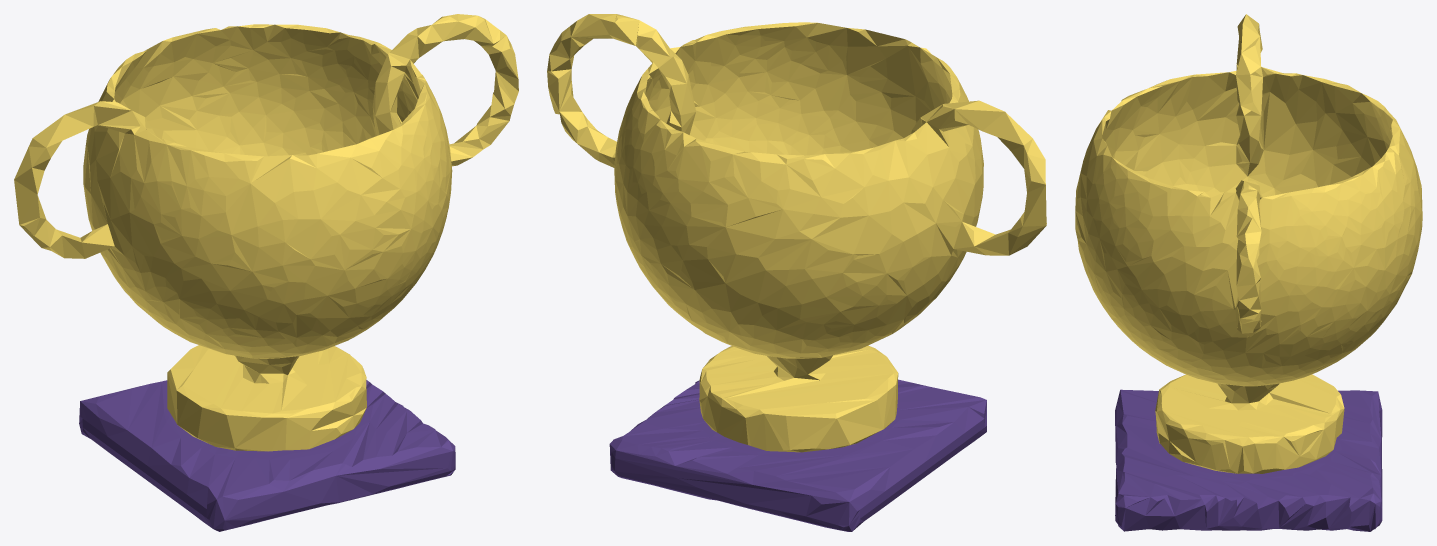
File: trophy.glb
3 views of the same model, side by side, from view 1: azimuth 30°, elevation 25°; view 2: azimuth 150°, elevation 25°; view 3: azimuth 270°, elevation 25° (orthographic). The views are drawn at different scales.
Visible parts, largest first — view 1: gold, marble; view 2: gold, marble; view 3: gold, marble.
Boxes of the visible parts, x1,y1,x2,y2 form: gold: (14, 14, 518, 451); marble: (79, 380, 455, 531); gold: (547, 14, 1046, 452); marble: (609, 379, 986, 531); gold: (1075, 14, 1422, 473); marble: (1115, 389, 1382, 531).
Size of the model in its own units: 0.4055 by 0.3087 by 0.2599.
